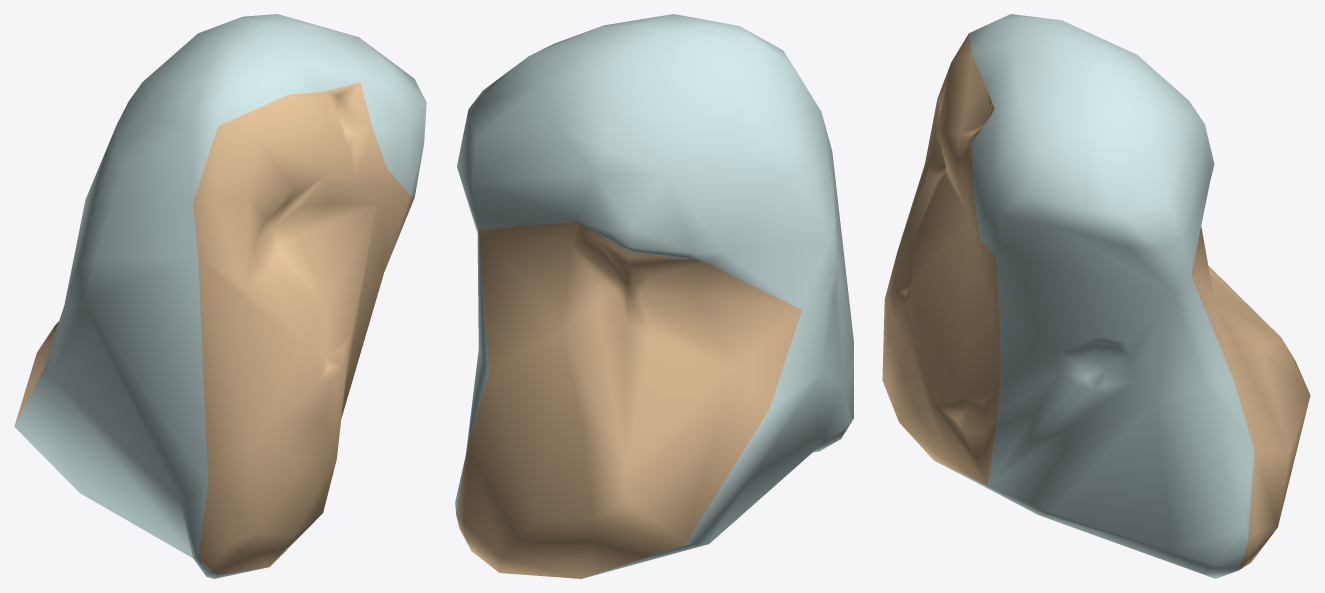
The model's file is Capitate_bone.r_Generated_Mesh_From_X3D.736.glb.
3 renders of one model, left to right at view 1: azimuth 30°, elevation 25°; view 2: azimuth 150°, elevation 25°; view 3: azimuth 270°, elevation 25°, orthographic. The views are drawn at different scales.
Visible parts, largest first — view 1: Capitate_bone.r_Generated_Mesh_From_X3D.736; view 2: Capitate_bone.r_Generated_Mesh_From_X3D.736; view 3: Capitate_bone.r_Generated_Mesh_From_X3D.736.
Boxes of the visible parts, x1=… form: Capitate_bone.r_Generated_Mesh_From_X3D.736: x1=14, y1=14, x2=426, y2=578; Capitate_bone.r_Generated_Mesh_From_X3D.736: x1=455, y1=14, x2=853, y2=578; Capitate_bone.r_Generated_Mesh_From_X3D.736: x1=882, y1=14, x2=1310, y2=578.
Size of the model in its own units: 0.0166 by 0.0234 by 0.018.
